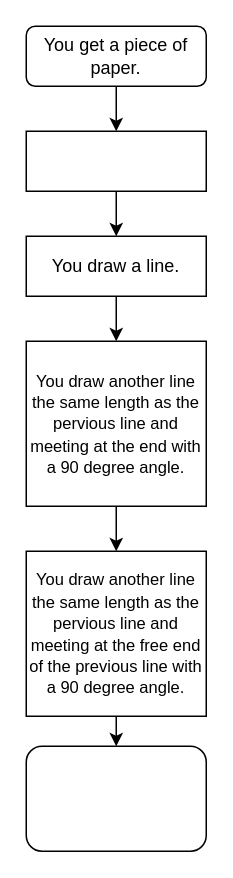
This 233x878 diagram has some shape labels left out. The box of each missing label's shape, as (x1, y1, x2, y2) in pixels:
Connect the previous line and the first line at their free ends.: (25, 745, 206, 851)
You get a pencil.: (25, 130, 206, 191)
